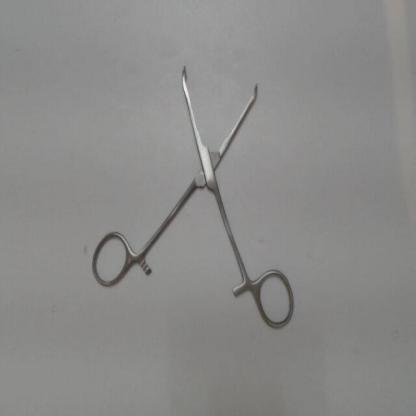Allis Tissue Forceps: (88, 58, 299, 336)
